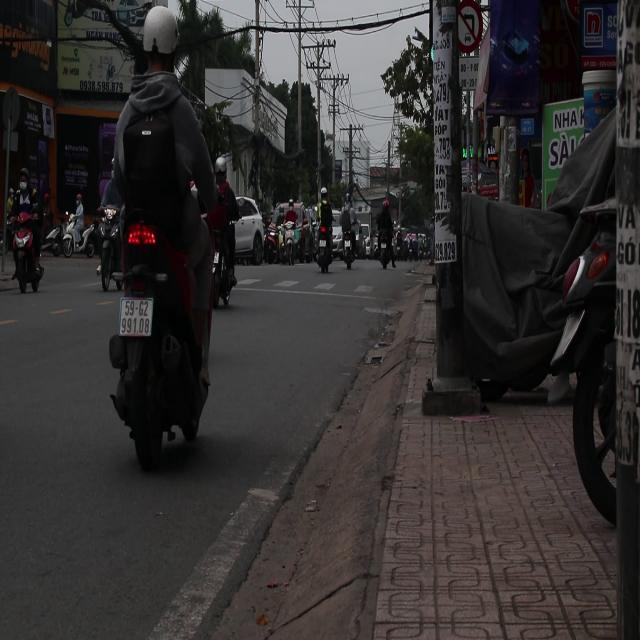car: (235, 196, 267, 265)
motorbike: (110, 205, 218, 462), (10, 211, 42, 289), (94, 209, 122, 292), (65, 203, 97, 258), (278, 203, 303, 264), (42, 213, 74, 257), (314, 223, 332, 276), (342, 228, 356, 278)
